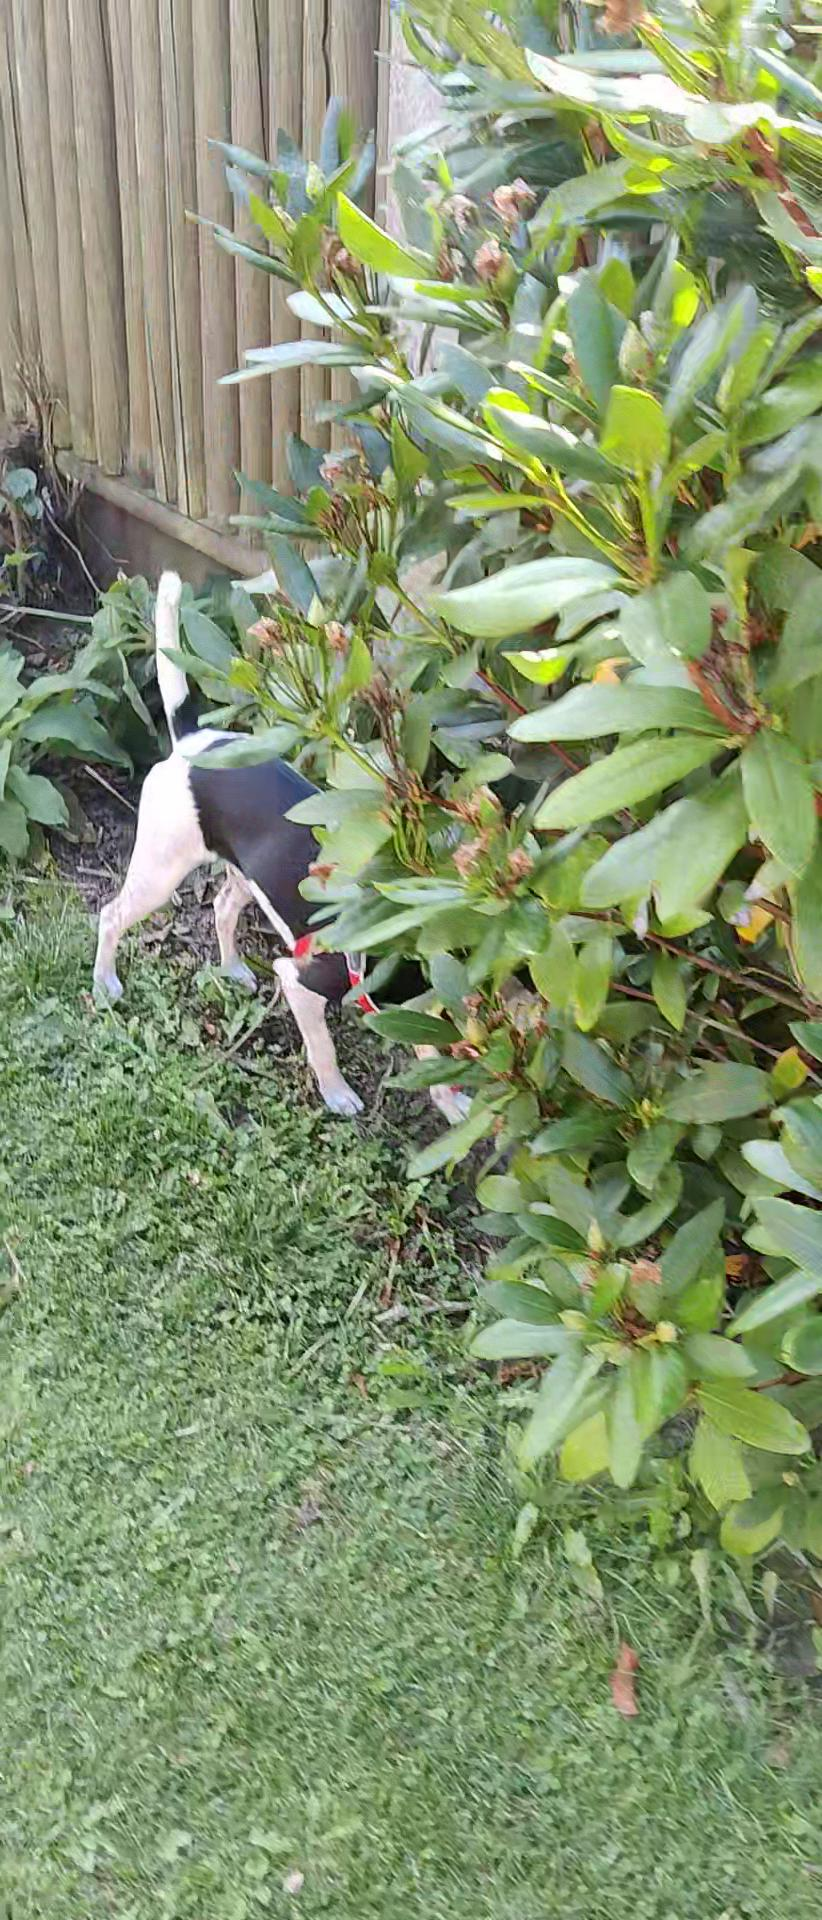Dog: (70, 562, 515, 1138)
